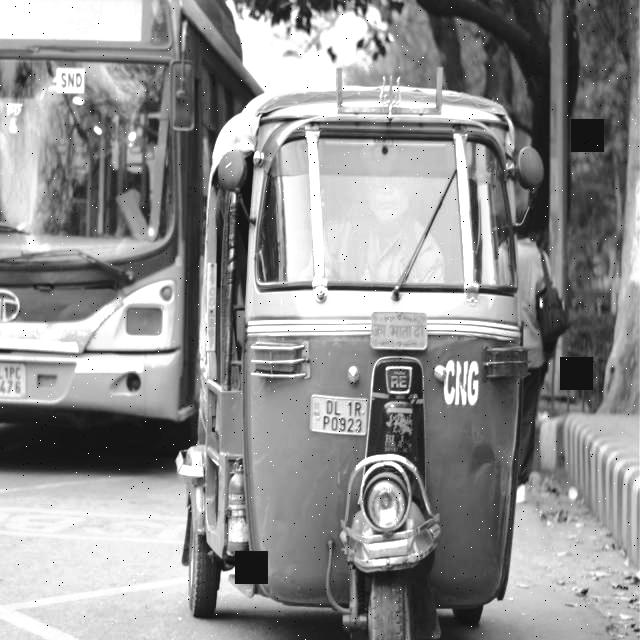Auto-Rickshaw: (189, 87, 537, 640)
